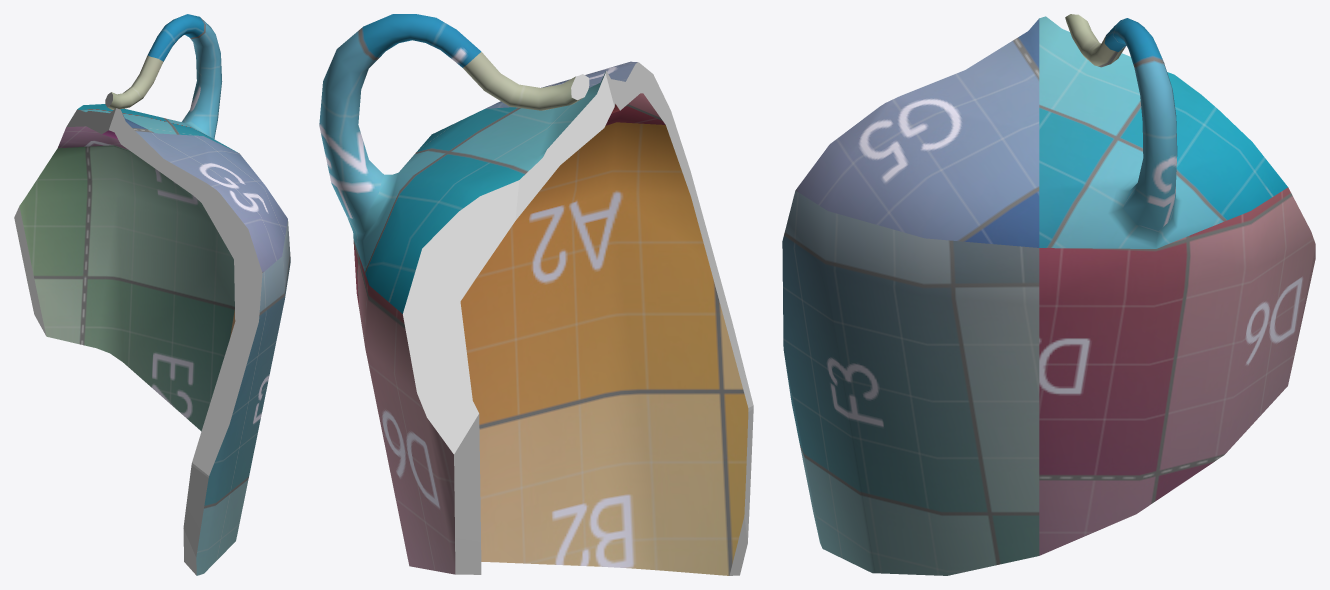
The model's file is MediumVase_SHAT_cell_012.fbx.
3 renders of one model, left to right at view 1: azimuth 30°, elevation 25°; view 2: azimuth 150°, elevation 25°; view 3: azimuth 270°, elevation 25°, orthographic. The views are drawn at different scales.
Visible parts, largest first — view 1: MediumVase_SHAT_cell_012; view 2: MediumVase_SHAT_cell_012; view 3: MediumVase_SHAT_cell_012.
Part boxes in pixels (box(x1,y1,x2,y2)): MediumVase_SHAT_cell_012: box(14, 14, 290, 575); MediumVase_SHAT_cell_012: box(319, 14, 753, 575); MediumVase_SHAT_cell_012: box(782, 14, 1315, 575).
Bounding box in the file's own units: 0.4453 × 1.17 × 0.9656.
2 materials, 1 textured.
